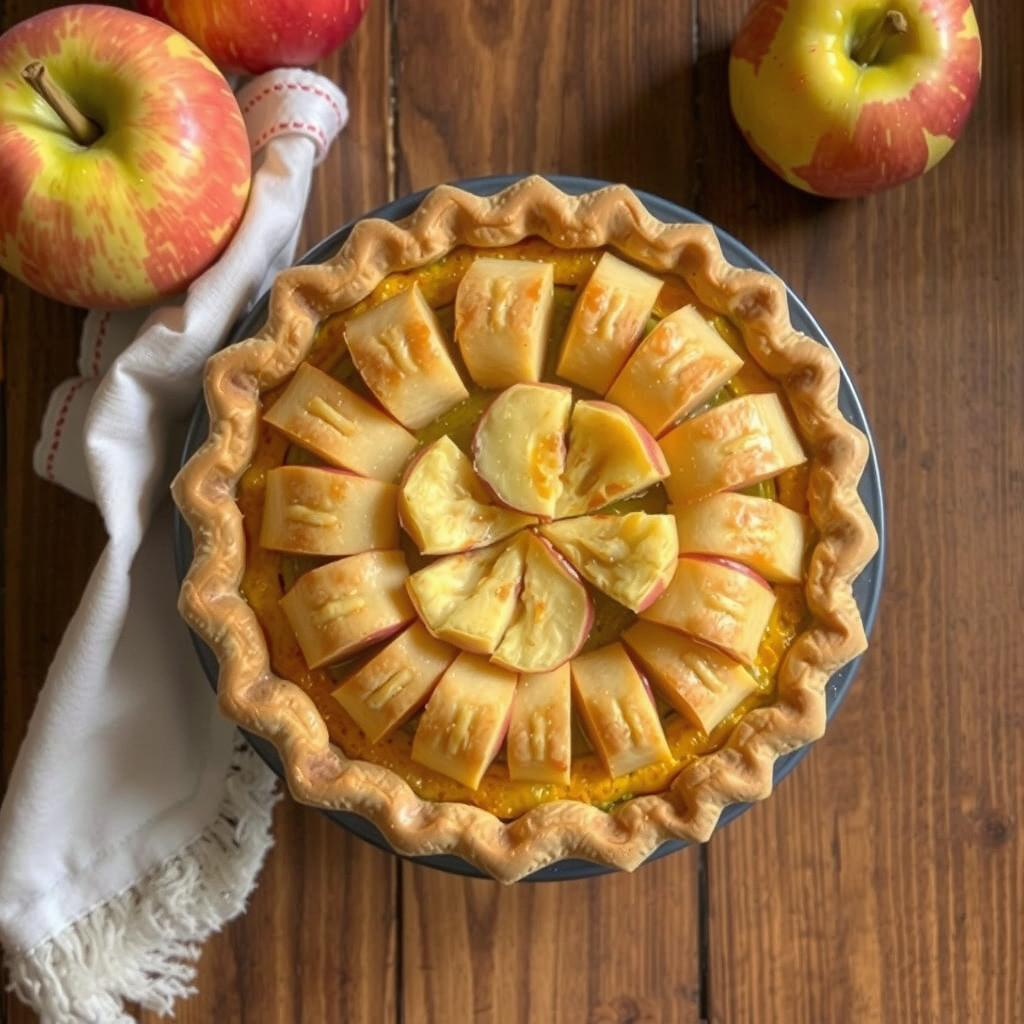cake: (159, 170, 884, 900)
